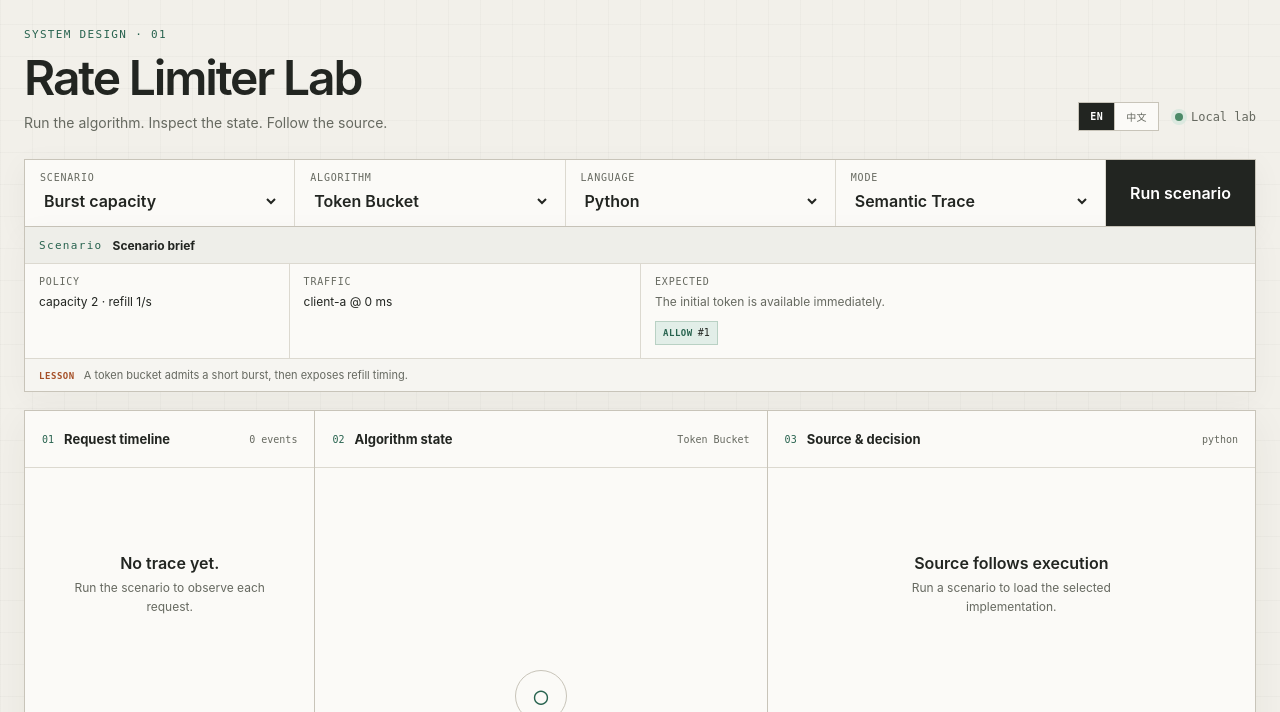
Test: Rate Limiter Lab › sends system scenarios through the real demo endpoint and renders rate-limit headers
Select "HTTP 429 contract" in the dropdown labelled "Scenario". click: (160, 201)
box: [40, 187, 279, 215]
(page scrolled)
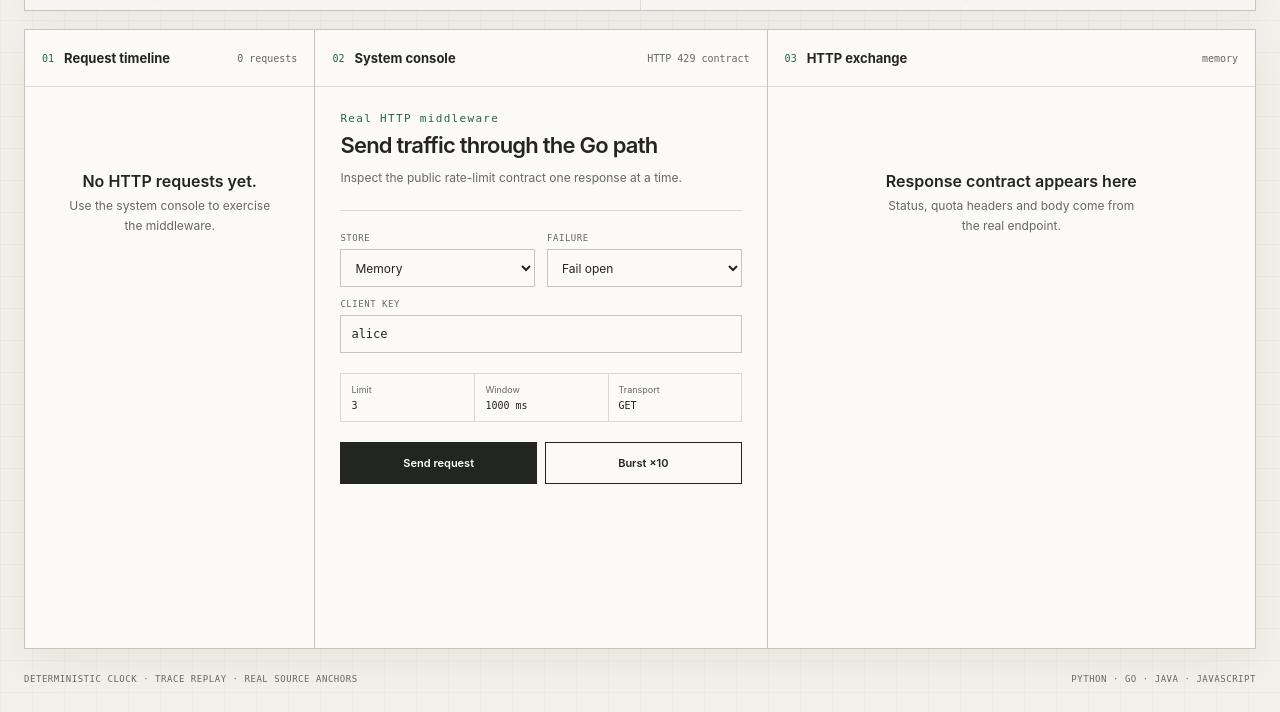
Click the button "Send request". click: (439, 463)
box: [340, 442, 537, 484]
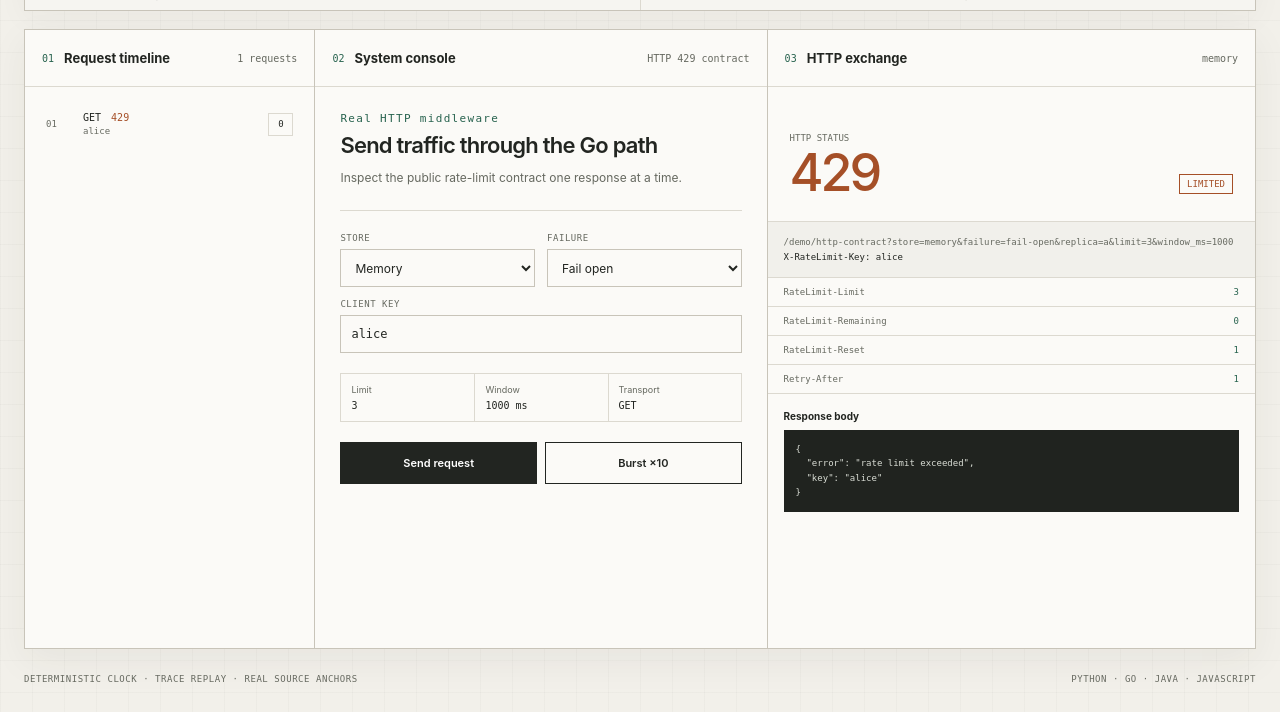
Result: the text "429" below "HTTP status" is shown at [790, 141, 879, 204]
Result: the text "RateLimit-Remaining" is shown at [784, 316, 887, 326]
Result: the text "0" in the row of "RateLimit-Remaining" is shown at [1234, 316, 1239, 326]
